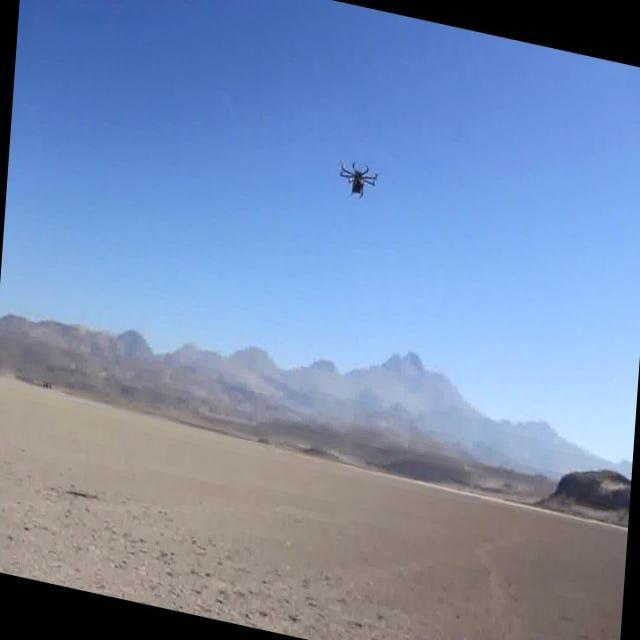drone: (336, 157, 381, 204)
